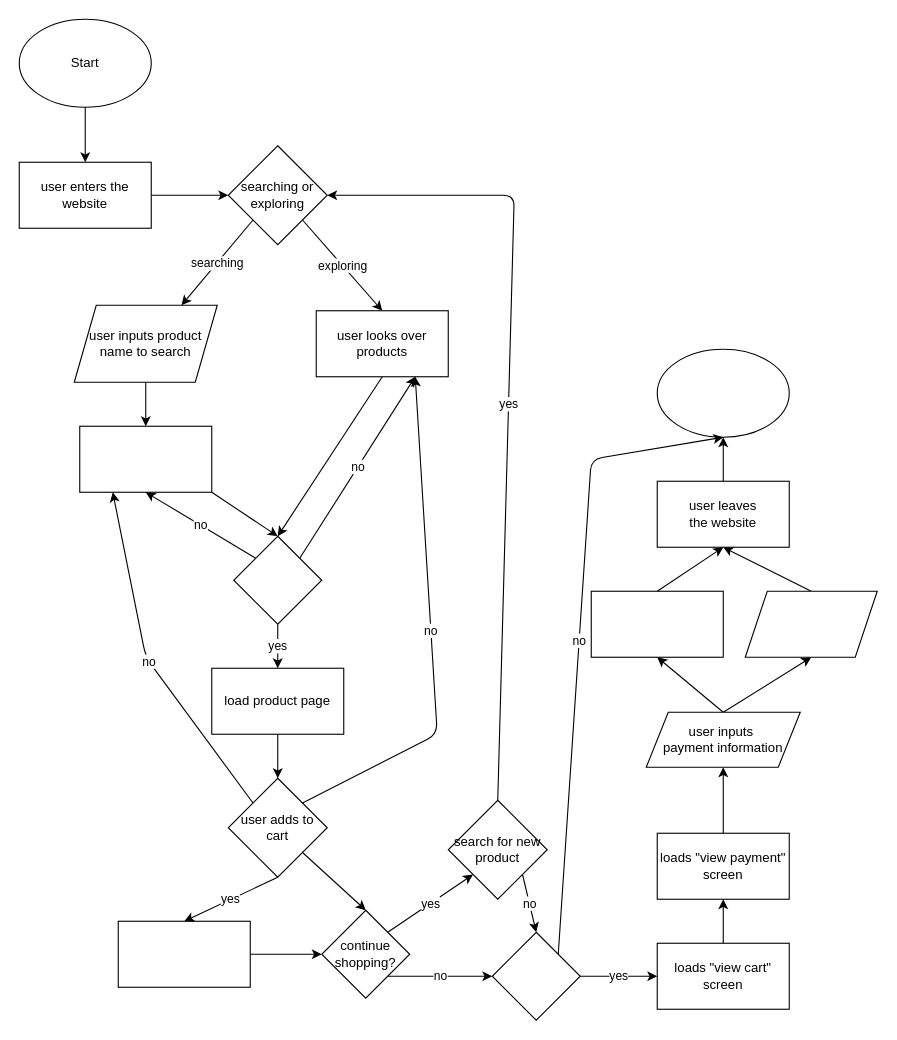
Some shapes in this 897 by 1040 pixel diagram are drawn without their labels. The shapes that lost their labels are listed below. From the top down, each one's centre as x and y in pixels, then its label:
(x=722, y=392): End
(x=145, y=458): user looks over the specific product
(x=277, y=579): view product
(x=656, y=623): loads "order confirmation" screen
(x=810, y=623): user receives email
(x=183, y=953): user receives "added to cart" confirmation
(x=535, y=975): checkout?
